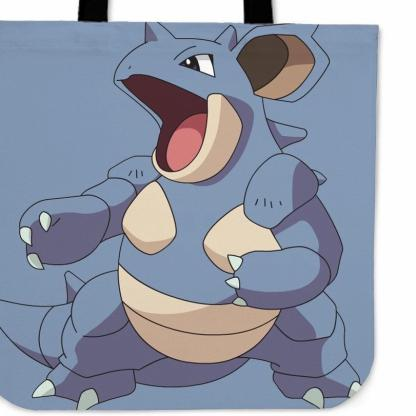Nidoqueen: (14, 24, 380, 407)
